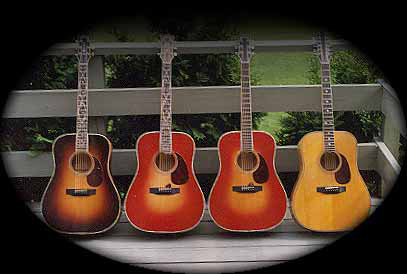guitar: (40, 34, 122, 236), (124, 33, 206, 235), (291, 32, 373, 233), (207, 35, 289, 232)
